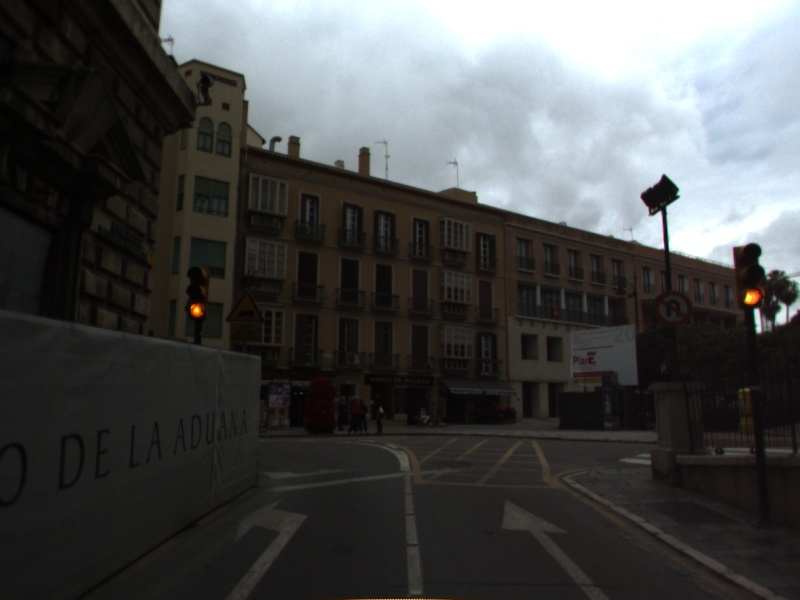LEFT: (223, 495, 312, 600)
STRAIGHT: (499, 497, 613, 600)
